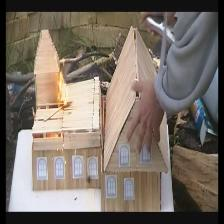fire: (58, 71, 68, 101)
